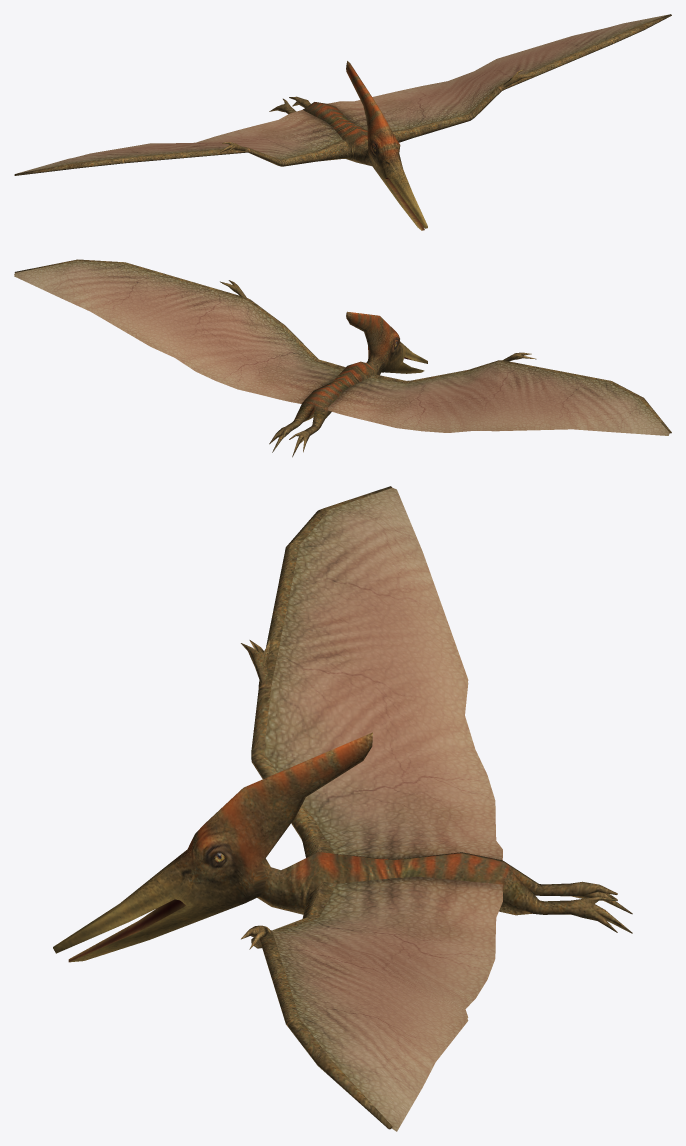
The model's file is Pteranodon.fbx.
3 views of the same model, one above another, from view 1: azimuth 30°, elevation 25°; view 2: azimuth 150°, elevation 25°; view 3: azimuth 270°, elevation 25° (orthographic). The views are drawn at different scales.
Parts seen in each view (by area): view 1: Pteranodon; view 2: Pteranodon; view 3: Pteranodon.
Part boxes in pixels (box(x1,y1,x2,y2)): Pteranodon: box(14, 14, 671, 230); Pteranodon: box(14, 259, 671, 457); Pteranodon: box(53, 486, 632, 1131).
Size of the model in its own units: 7.23 by 1.2 by 2.76.
